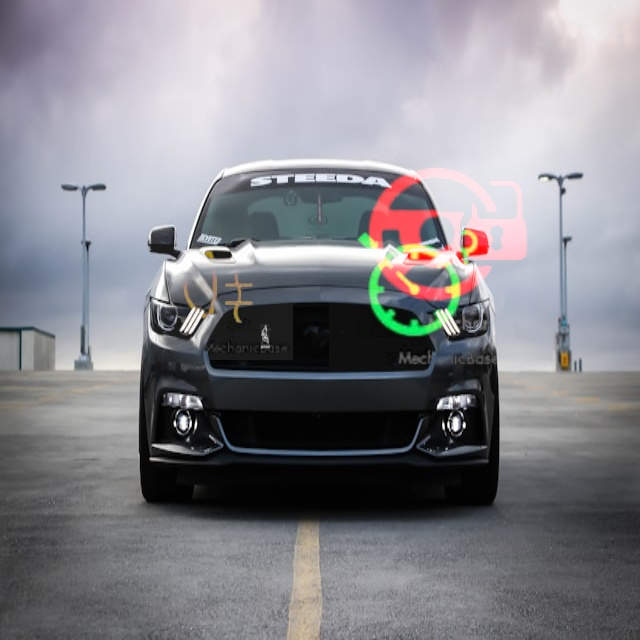symbol: (344, 129, 556, 341), (329, 196, 506, 373), (145, 212, 293, 360)
